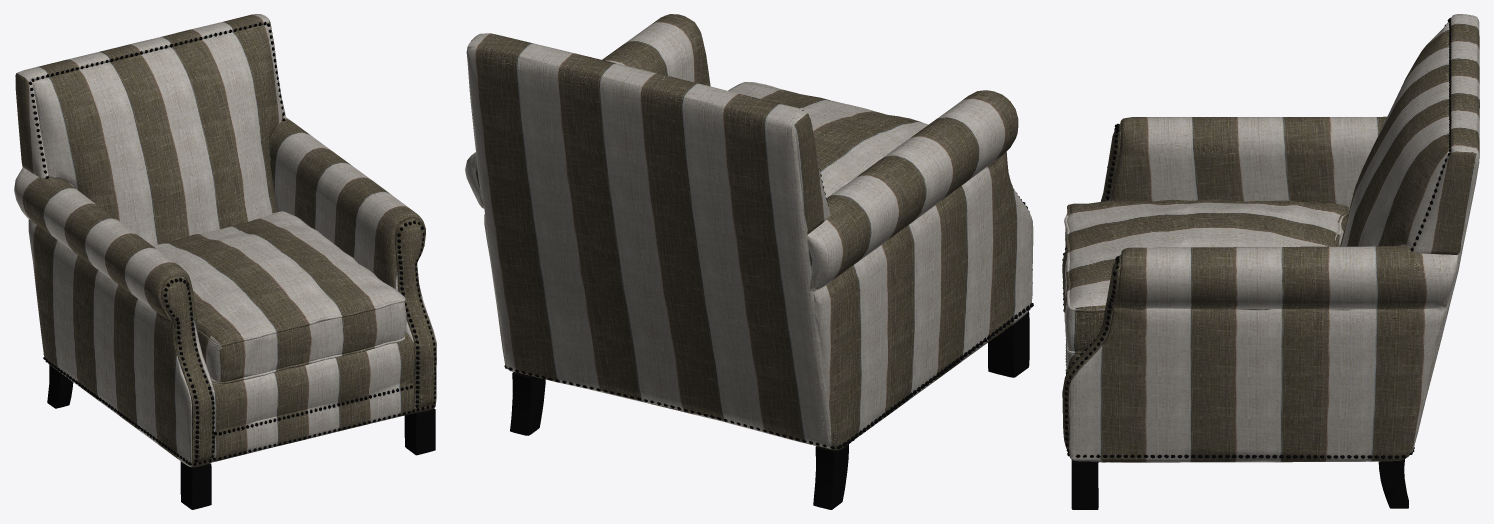
The model's file is SEHO1600_v6_LOD2.obj.
3 renders of one model, left to right at view 1: azimuth 30°, elevation 25°; view 2: azimuth 150°, elevation 25°; view 3: azimuth 270°, elevation 25°, orthographic. The views are drawn at different scales.
Visible parts, largest first — view 1: not_clear_obj_0_v6, not_clear_obj_2_v6, not_clear_obj_1_v6; view 2: not_clear_obj_0_v6, not_clear_obj_1_v6, not_clear_obj_2_v6; view 3: not_clear_obj_0_v6, not_clear_obj_1_v6, not_clear_obj_2_v6.
Part boxes in pixels (<box>): not_clear_obj_0_v6: <box>14,14,436,467</box>; not_clear_obj_2_v6: <box>29,21,436,465</box>; not_clear_obj_1_v6: <box>47,365,435,509</box>; not_clear_obj_0_v6: <box>465,14,1033,450</box>; not_clear_obj_1_v6: <box>510,311,1029,509</box>; not_clear_obj_2_v6: <box>504,101,1033,449</box>; not_clear_obj_0_v6: <box>1062,14,1479,462</box>; not_clear_obj_1_v6: <box>1071,459,1408,509</box>; not_clear_obj_2_v6: <box>1062,17,1451,458</box>.
Size of what is drawn, in the model's own units: 72.87 by 79.81 by 83.76.
3 materials, 2 textured.
